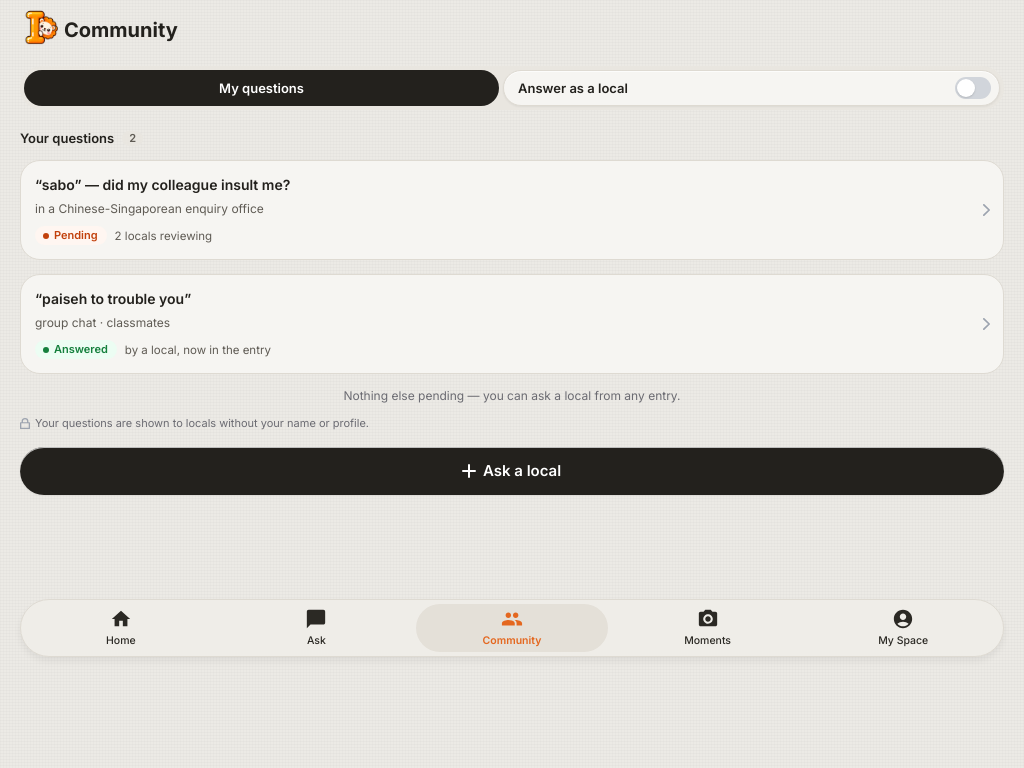
Test: Ask a local saves an anonymous question at the top of the list
Click the button "Ask a local" at (512, 471), box [20,447,1004,495]
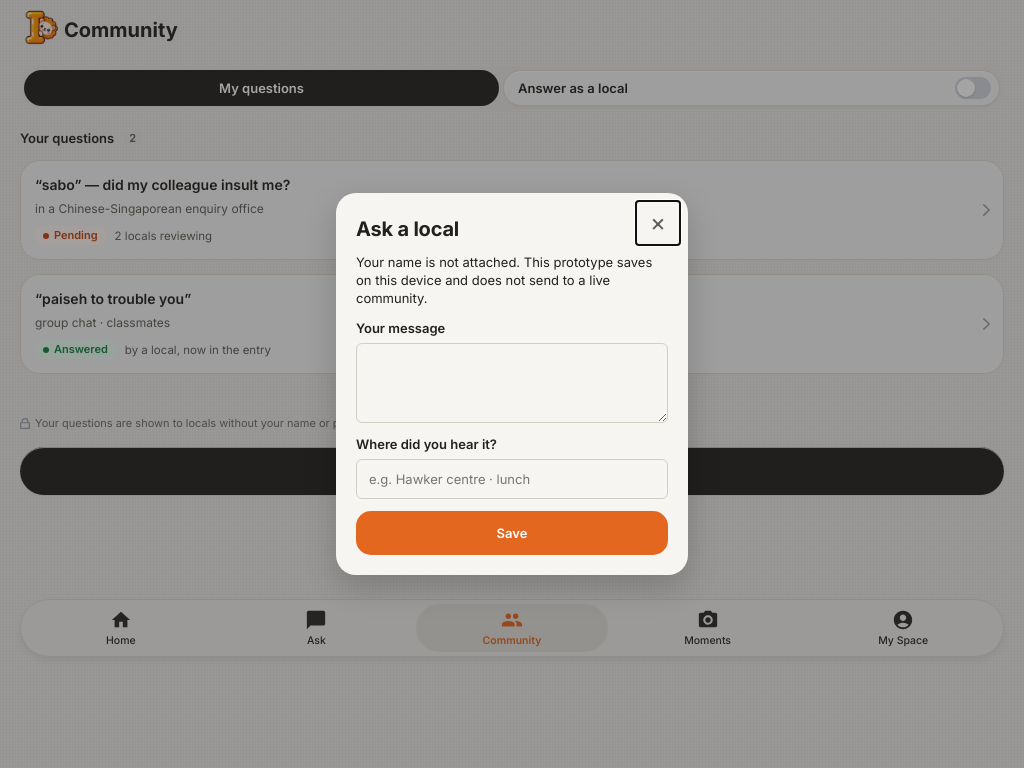
expect the text "Your name is not attached" is shown: met, box [356,254,652,306]
Type "Is chope polite?" into the text box labelled "Your message" at (512, 383), box [356,343,668,423]
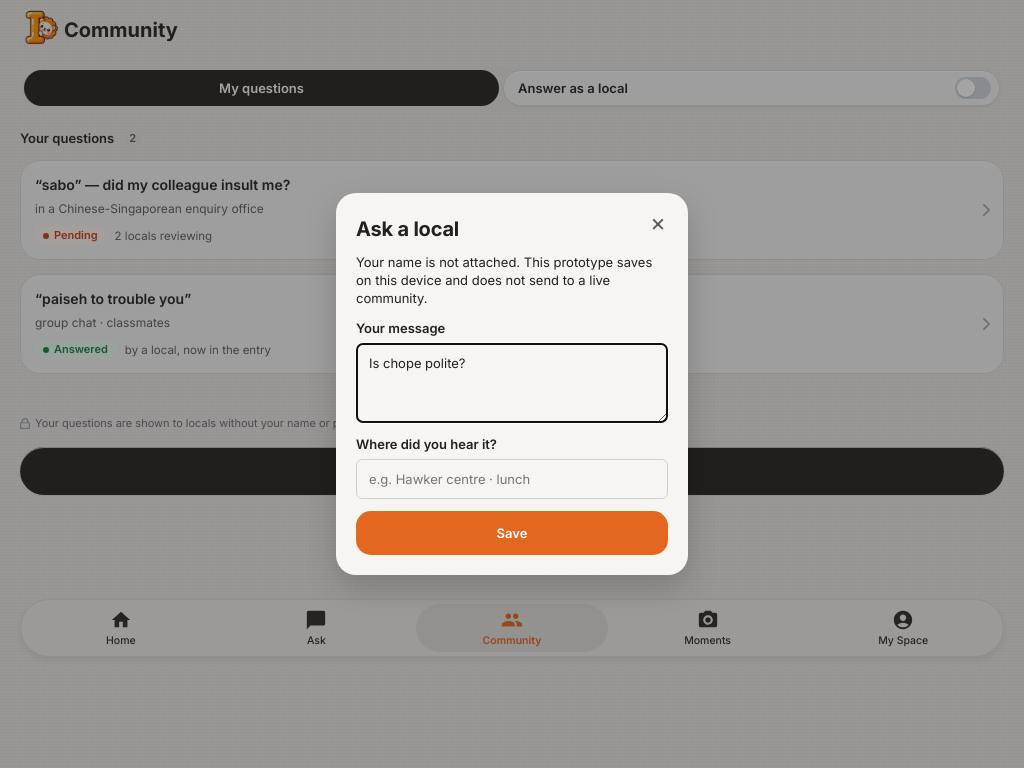
Type "Hawker centre · lunch" into the field labelled "Where did you hear it?" at (512, 479), box [356,459,668,499]
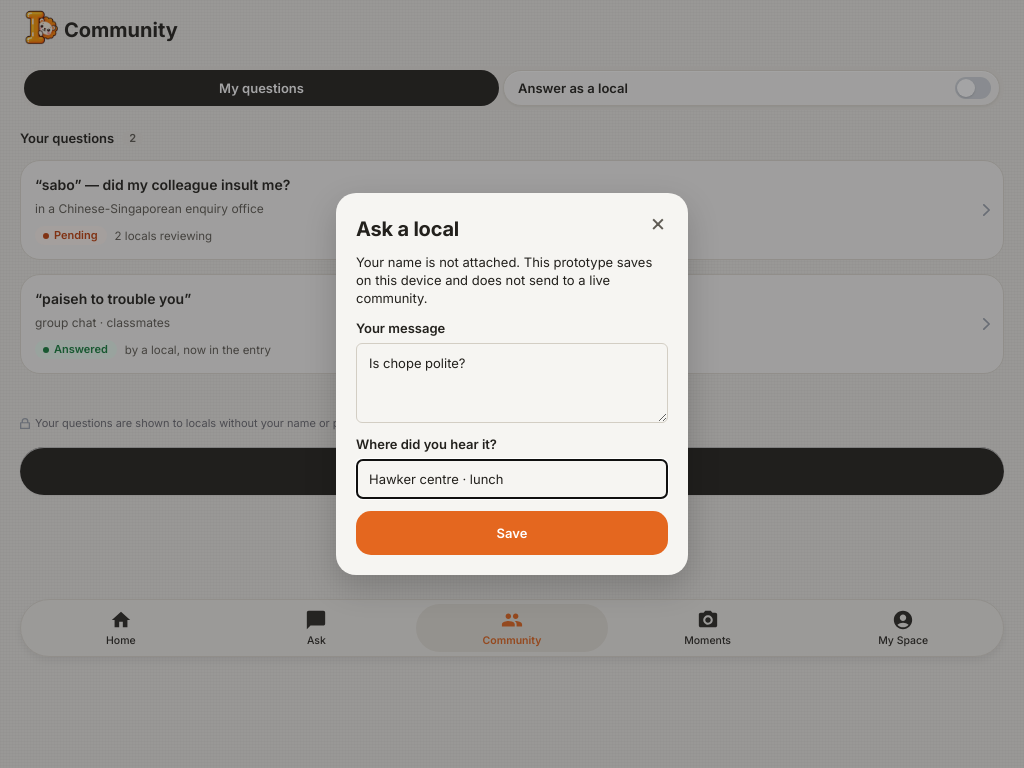
Click the button "Save" at (512, 533), box [356,511,668,555]
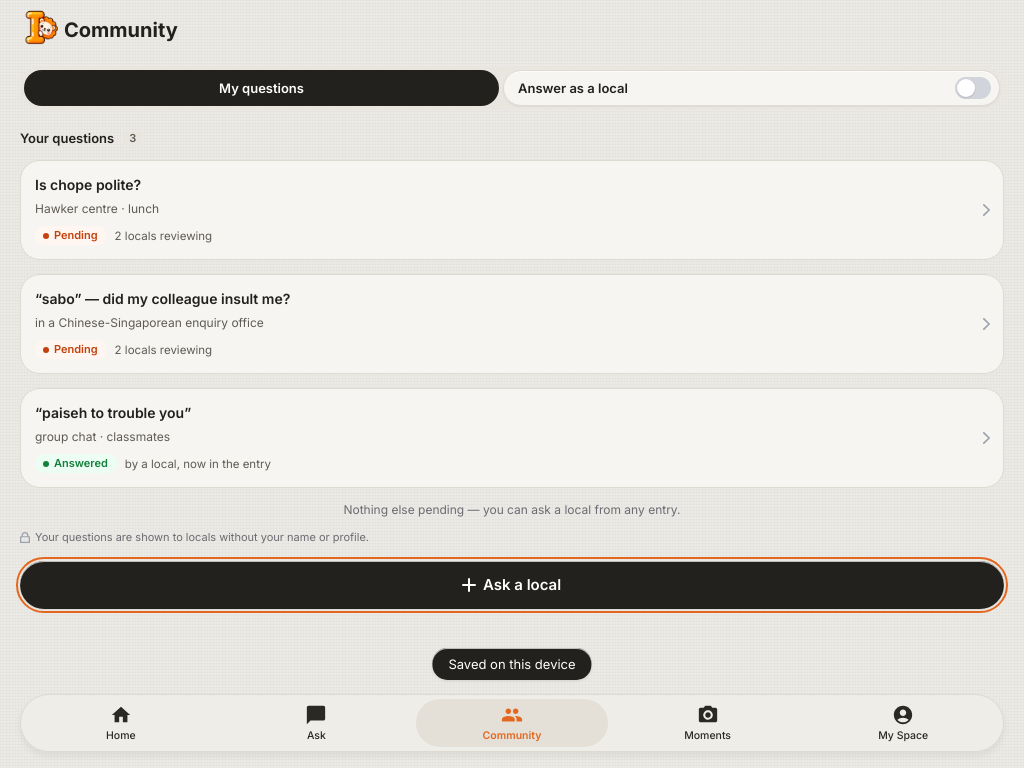
expect the dialog is gone: met
expect the number of links named "open question" is 3: met, box [20,160,1004,260]; [20,274,1004,374]; [20,388,1004,488]
expect the text "Hawker centre · lunch" is shown: met, box [35,201,159,216]
